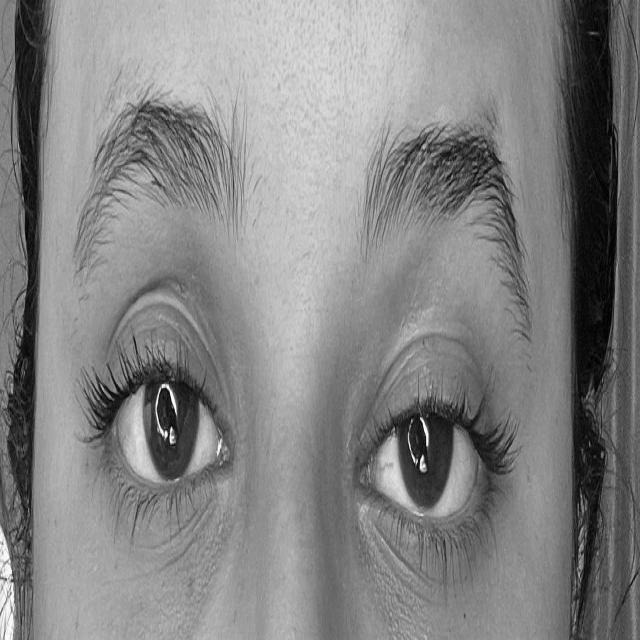real: (72, 134, 558, 611)
